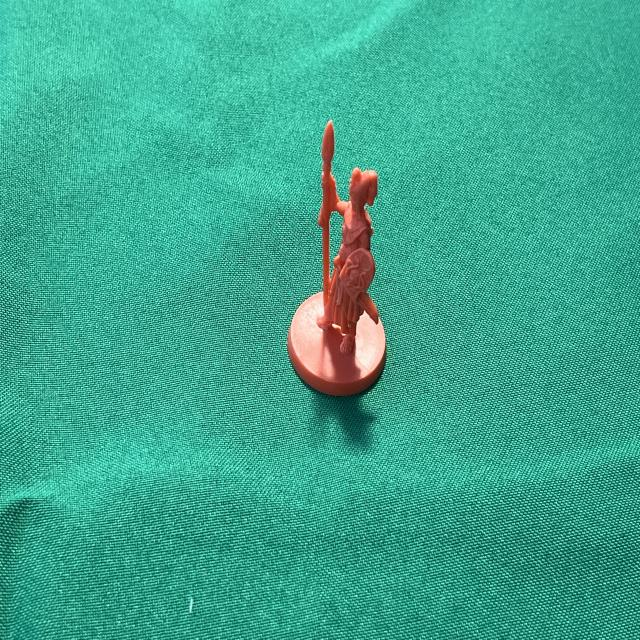amon_follower: (288, 122, 386, 395)
